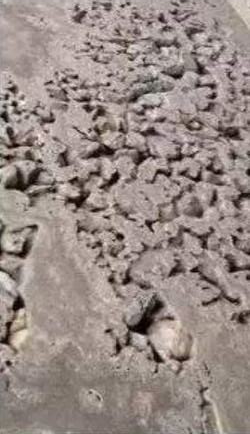Spalling: (42, 1, 250, 434), (1, 71, 42, 373)
